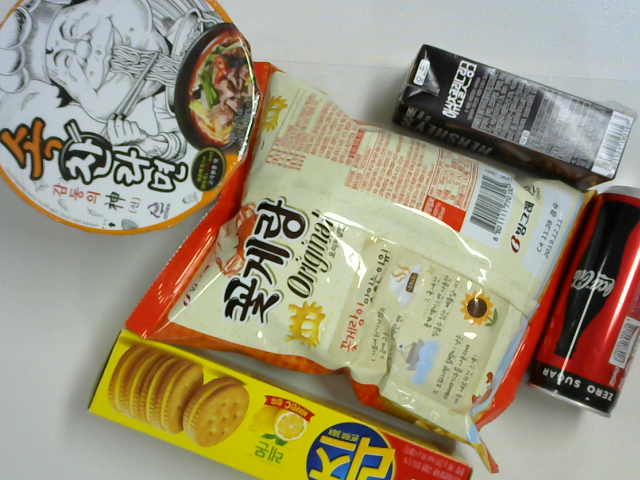Coca_Cola_Zero_Can_250ml: (527, 184, 640, 418)
Crabrang: (124, 63, 598, 474)
Hejangchan: (1, 1, 262, 237)
Hush_Choco_Drink: (390, 45, 633, 189)
Ritz_Remon_96g: (87, 328, 473, 480)
